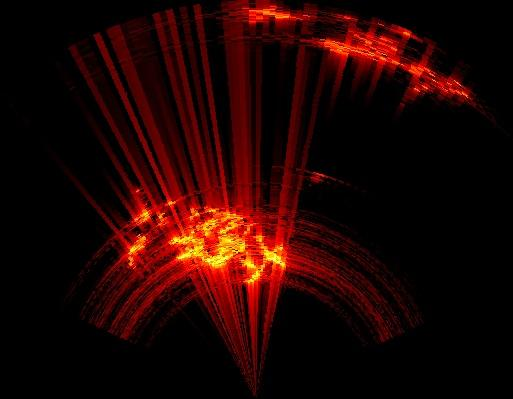shipwreck: (319, 15, 494, 121), (169, 208, 283, 283), (124, 208, 170, 258), (241, 4, 309, 26), (127, 214, 128, 251)
